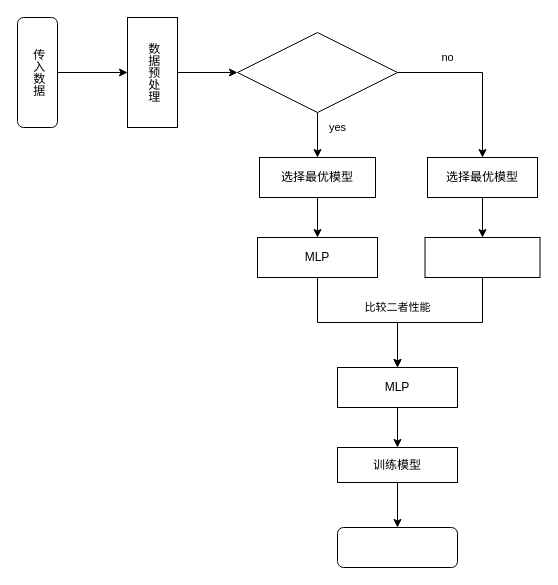
Image size: 558x585. Some labels were removed from this diagram. Each missing label, with the box of its shape:
SVC: (424, 236, 540, 278)
实时推理: (336, 526, 458, 568)
是否进行特征提取: (236, 32, 398, 112)
